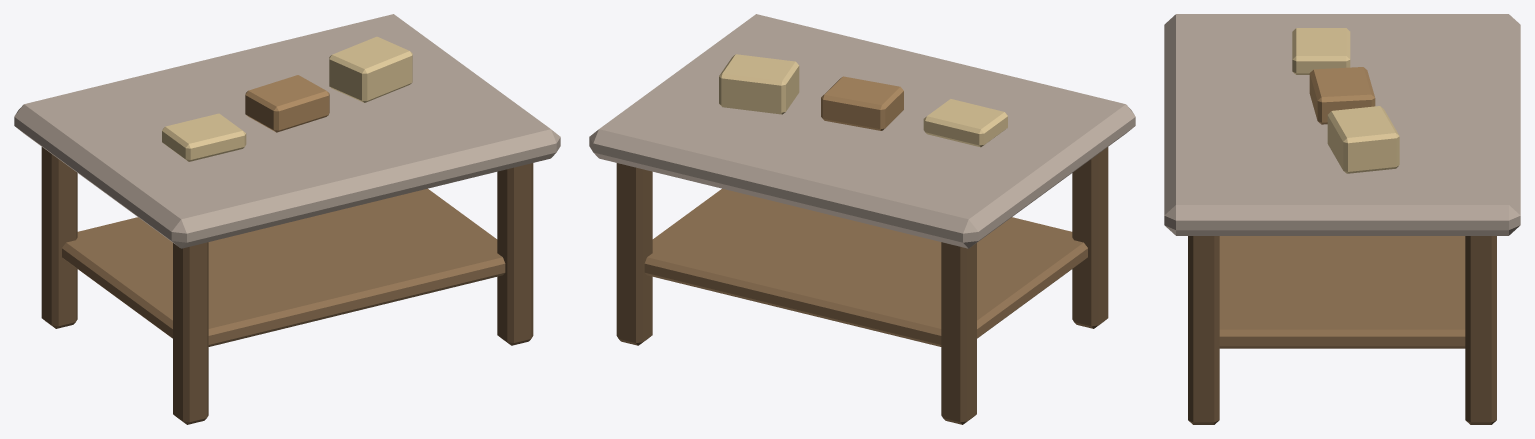
Rendered from table.glb.
3 renders of one model, left to right at view 1: azimuth 30°, elevation 25°; view 2: azimuth 150°, elevation 25°; view 3: azimuth 270°, elevation 25°, orthographic. The views are drawn at different scales.
Size of the model in its own units: 1.8 by 1.1 by 1.35.
